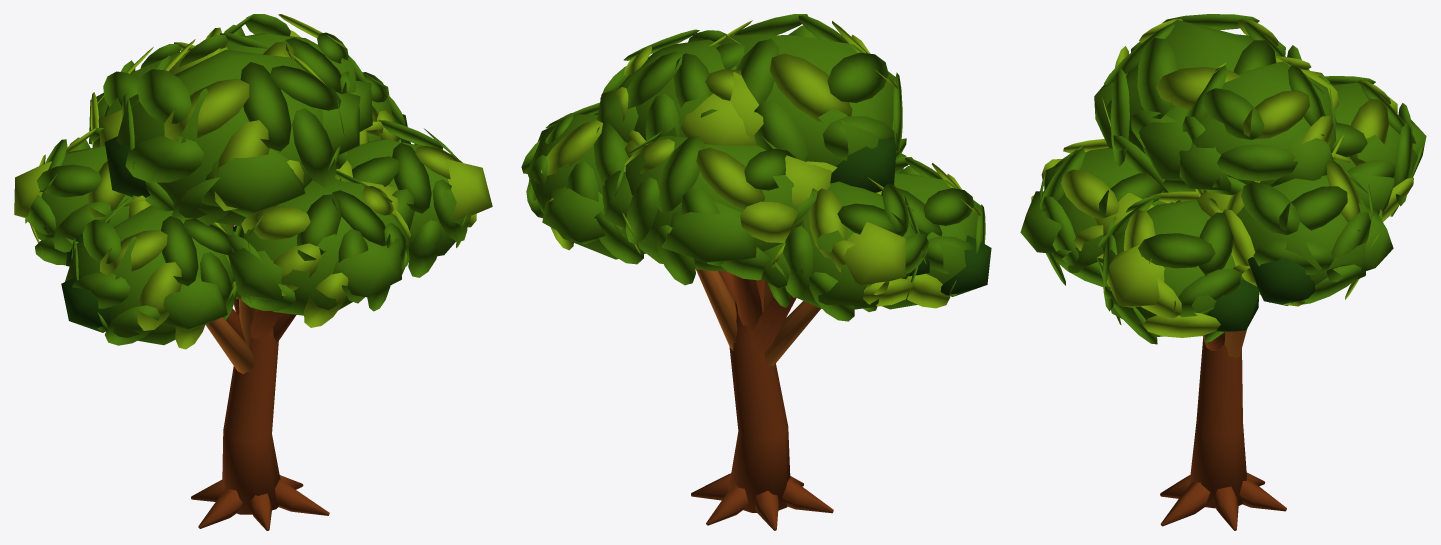
File: tree-broadleaf.glb
The picture shows the model from 3 angles, left to right: view 1: azimuth 30°, elevation 25°; view 2: azimuth 150°, elevation 25°; view 3: azimuth 270°, elevation 25°; orthographic projection. The views are drawn at different scales.
Parts seen in each view (by area): view 1: tree-broadleaf-canopy, tree-broadleaf-bark; view 2: tree-broadleaf-canopy, tree-broadleaf-bark; view 3: tree-broadleaf-canopy, tree-broadleaf-bark.
Part boxes in pixels (x1,y1,x2,y2): tree-broadleaf-canopy: (14,14,492,349); tree-broadleaf-bark: (191,224,329,530); tree-broadleaf-canopy: (521,14,991,321); tree-broadleaf-bark: (691,269,833,530); tree-broadleaf-canopy: (1020,14,1426,344); tree-broadleaf-bark: (1160,330,1286,530).
Size of the model in its own units: 6.64 by 7.39 by 5.8.
